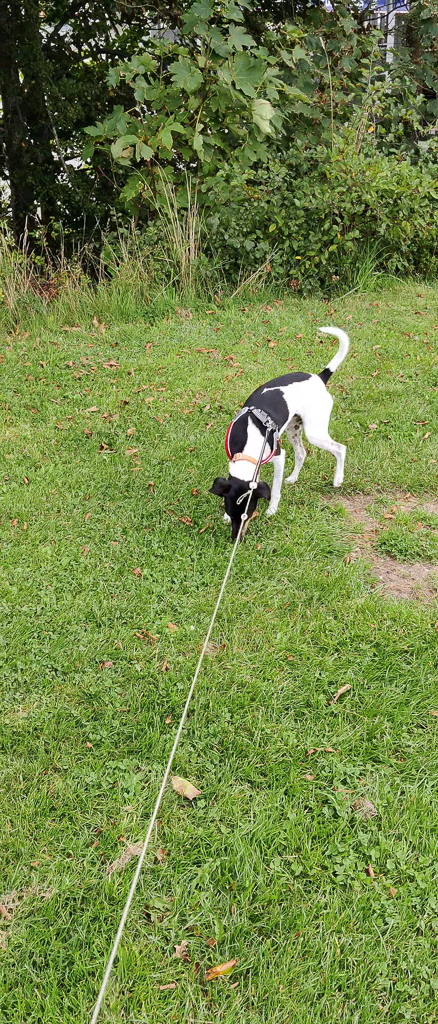Dog: (191, 311, 359, 558)
